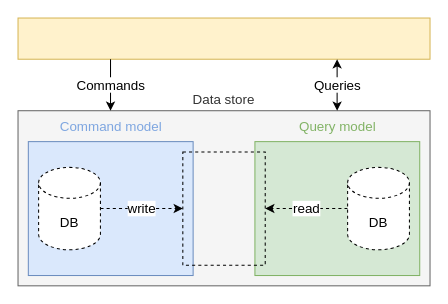
Some shapes in this 448 by 304 pixel diagram are drawn without their labels. Each missing label, with the centre of its shape:
APIs, Interfaces, GUIs, etc.: [223,38]
Message broker: [223,208]
